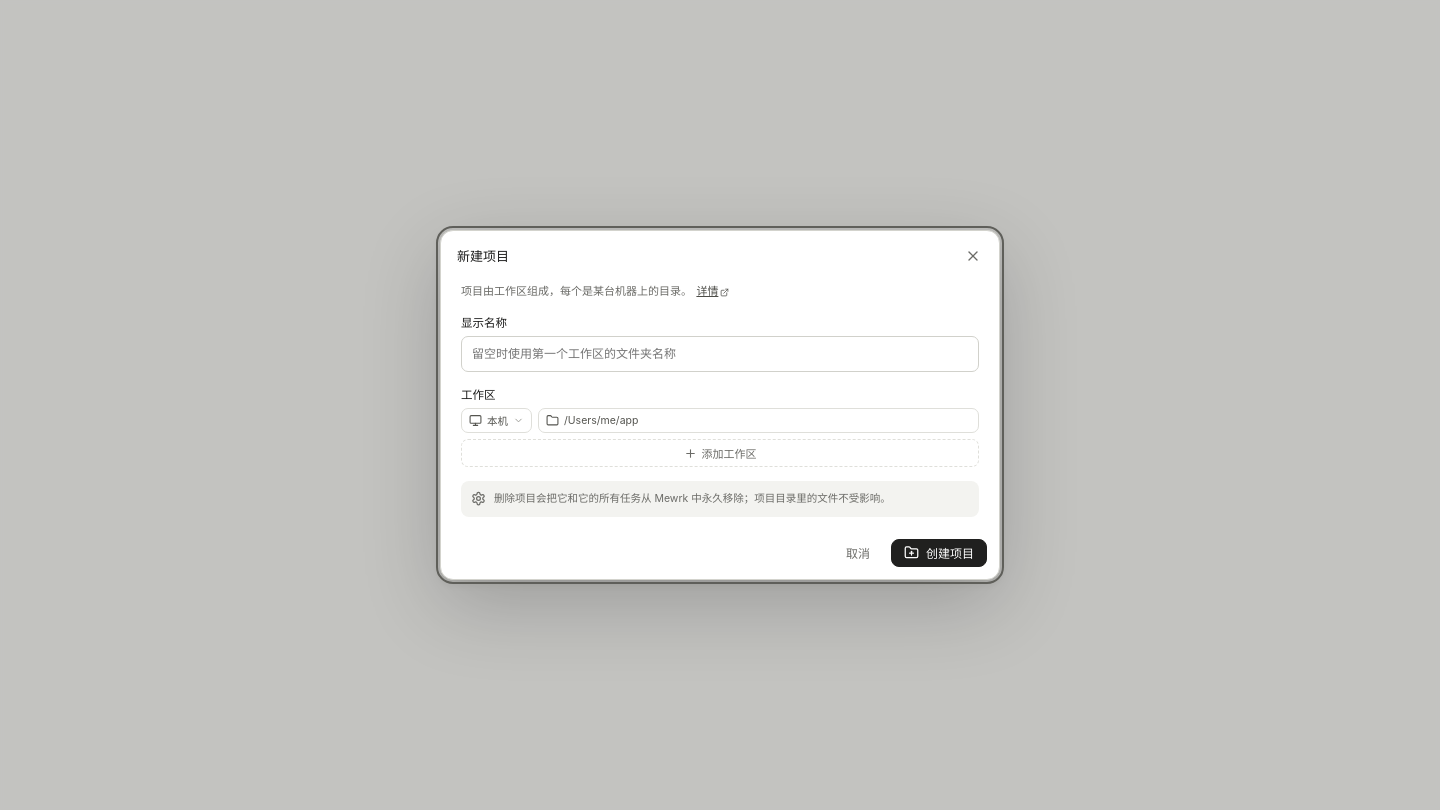
Test case: ProjectDialog › offers Local, WSL and SSH, with the SSH list ending in an add item
The width and height of the screenshot is (1440, 810).
What coordinates should you click on to do the following:
click the button with aria-label "工作区的机器："
I would click on:
 (496, 421)
Its box is [461,408,532,433].
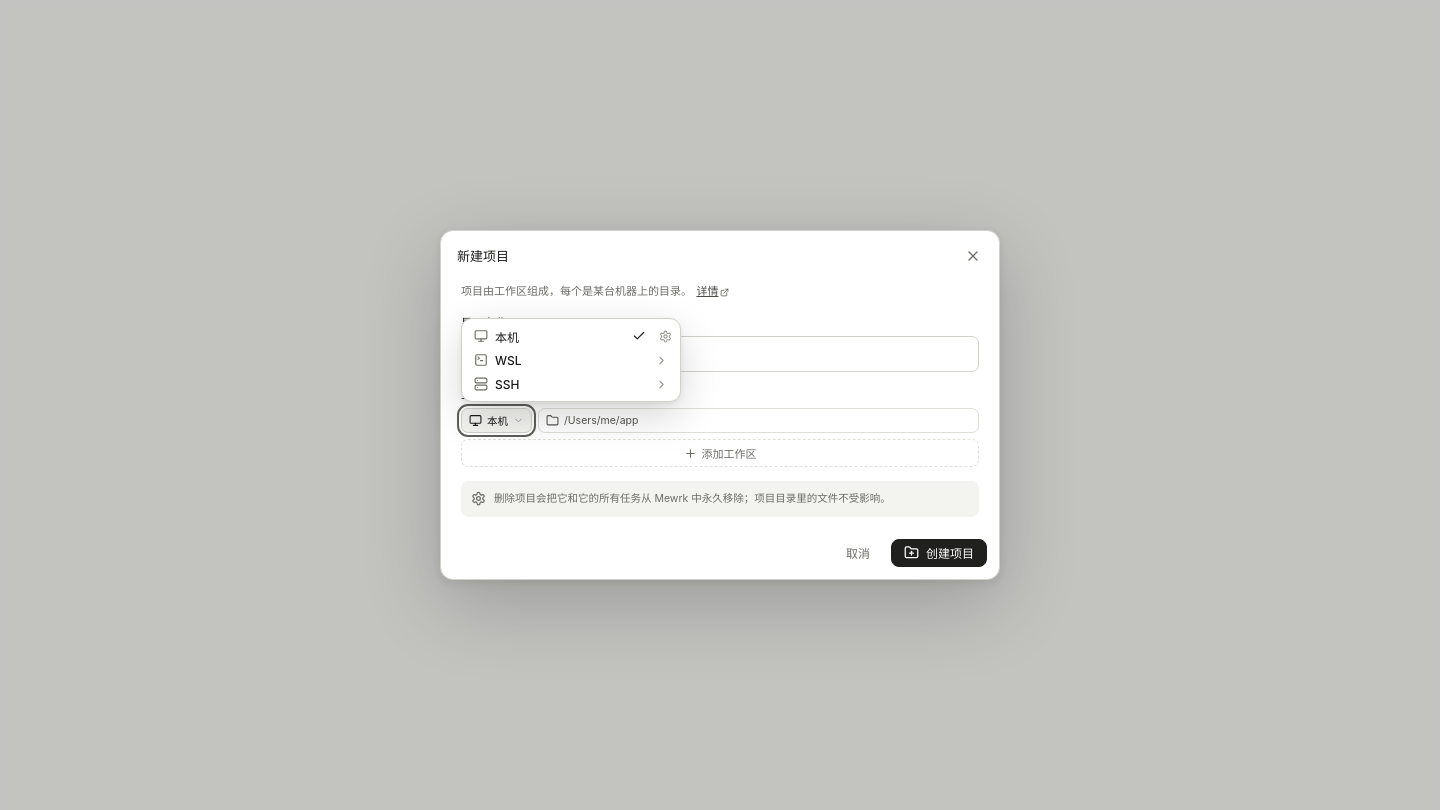
What coordinates should you click on to do the following:
click the menu item "WSL"
I would click on:
 (571, 360)
Its box is [467,348,675,372].
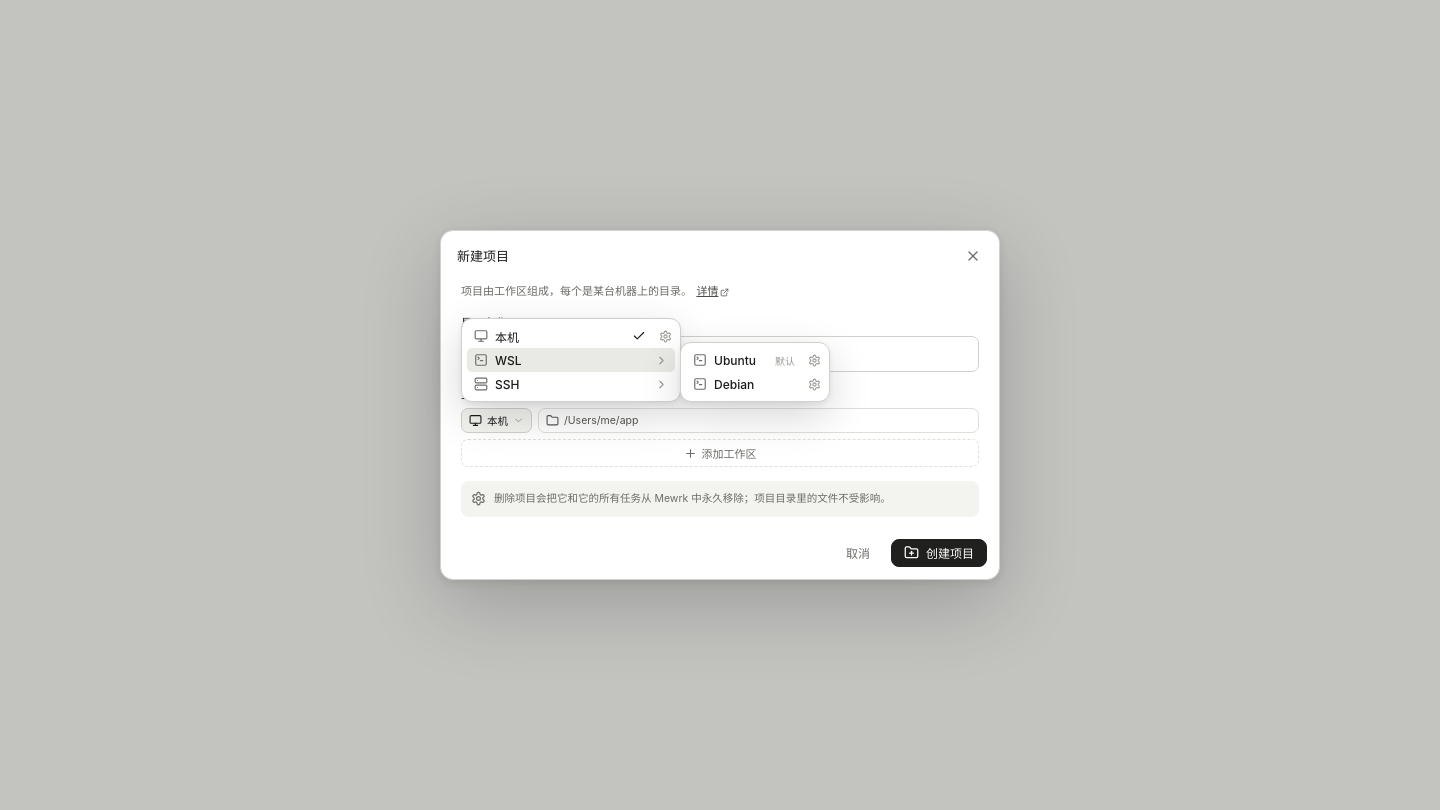
Check: the button named "本机 的设置" is shown, box [655,326,675,346]
Check: the menu item "Ubuntu 默认" is shown, box [686,348,802,372]
Check: the menu item "Debian" is shown, box [686,372,802,396]
What coordinates should you click on to do the following:
click the menu item "SSH"
I would click on:
 (571, 384)
Its box is [467,372,675,396].
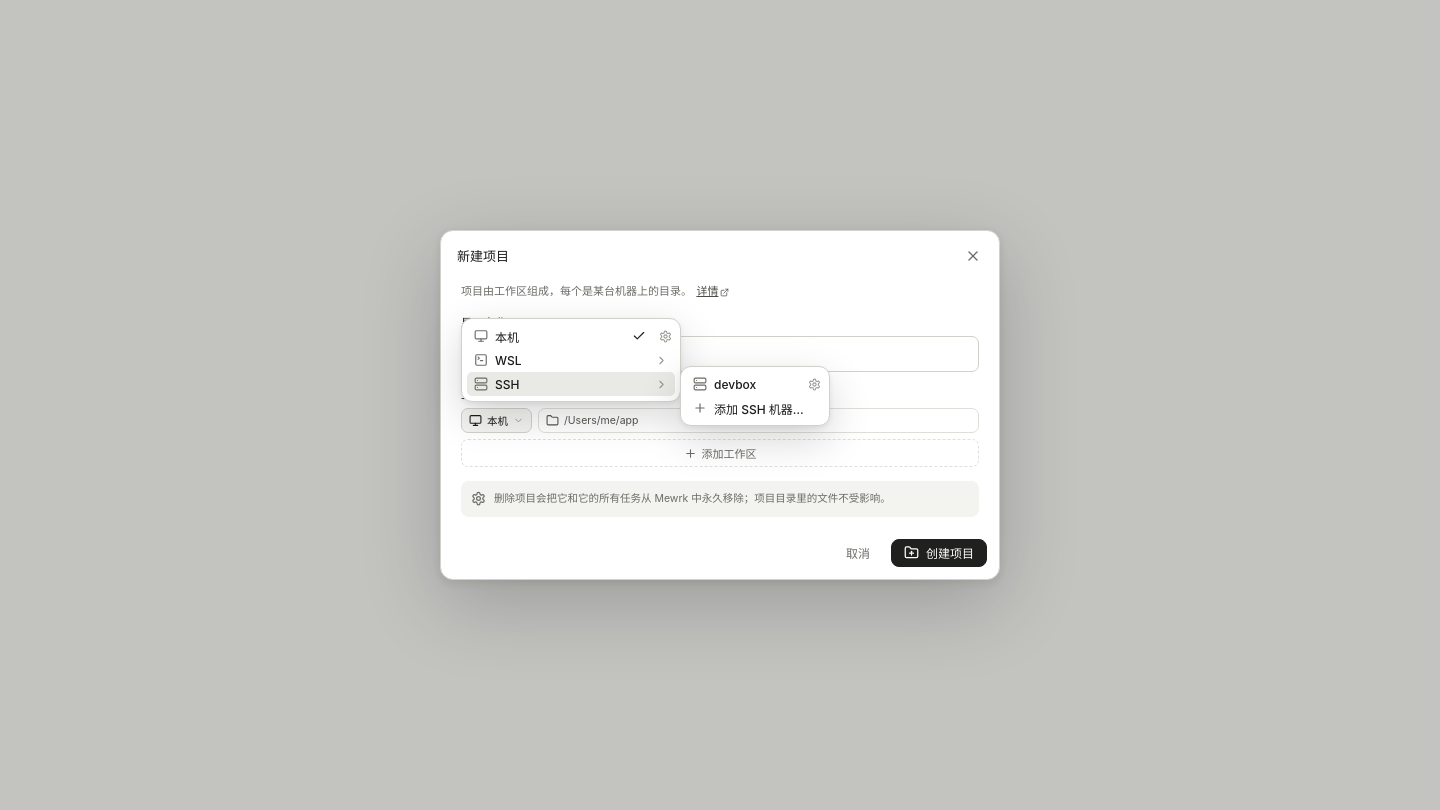
Choosing another machine clears the path chosen on the old one.
What coordinates should you click on to do the following:
click the menu item "devbox"
I would click on:
 (744, 384)
Its box is [686,372,802,396].
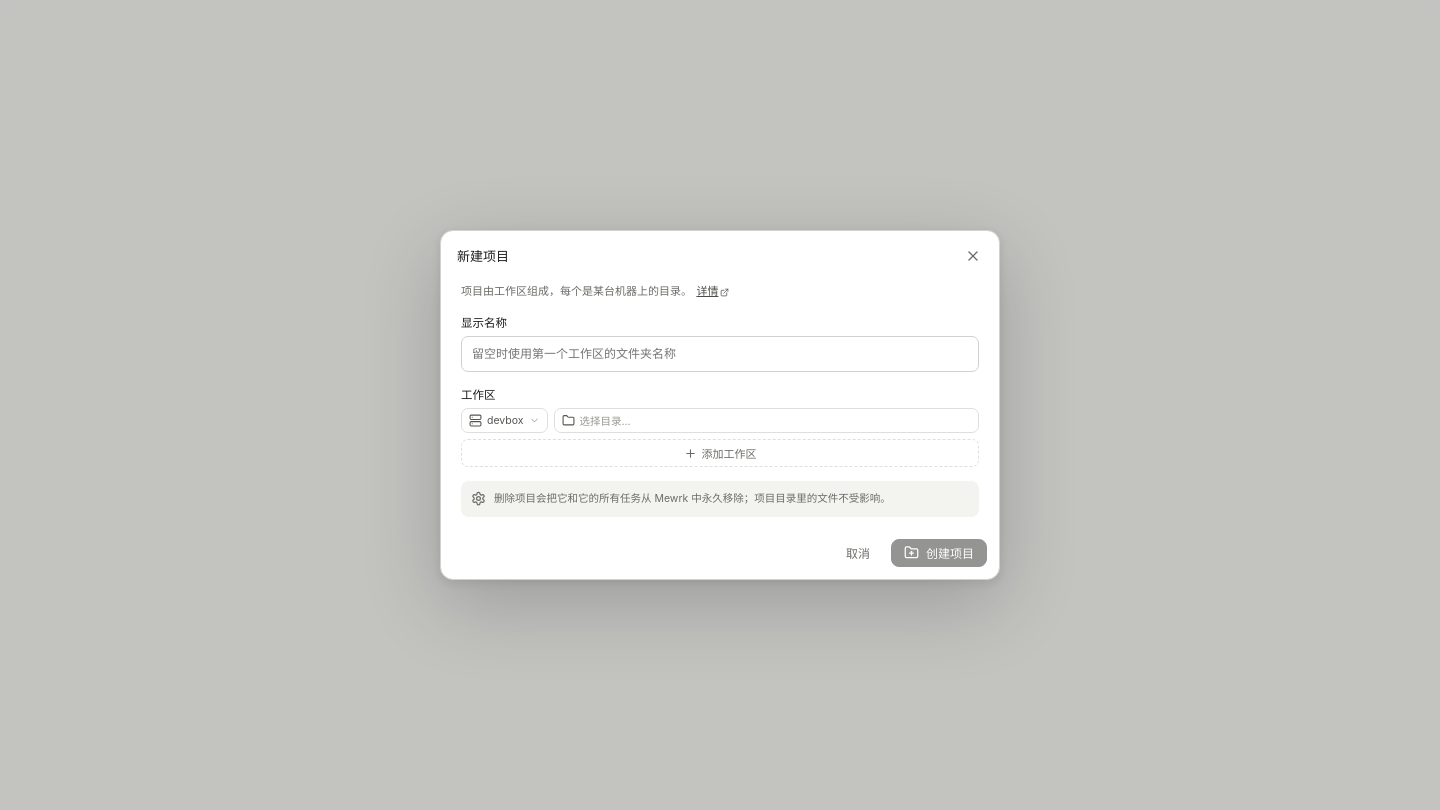
Check: the menu "选择机器" is gone
Check: the button with aria-label "工作区的机器：" reads "devbox", box [461,408,548,433]
Check: the button with aria-label "为工作区选择目录" is shown, box [554,408,979,433]
